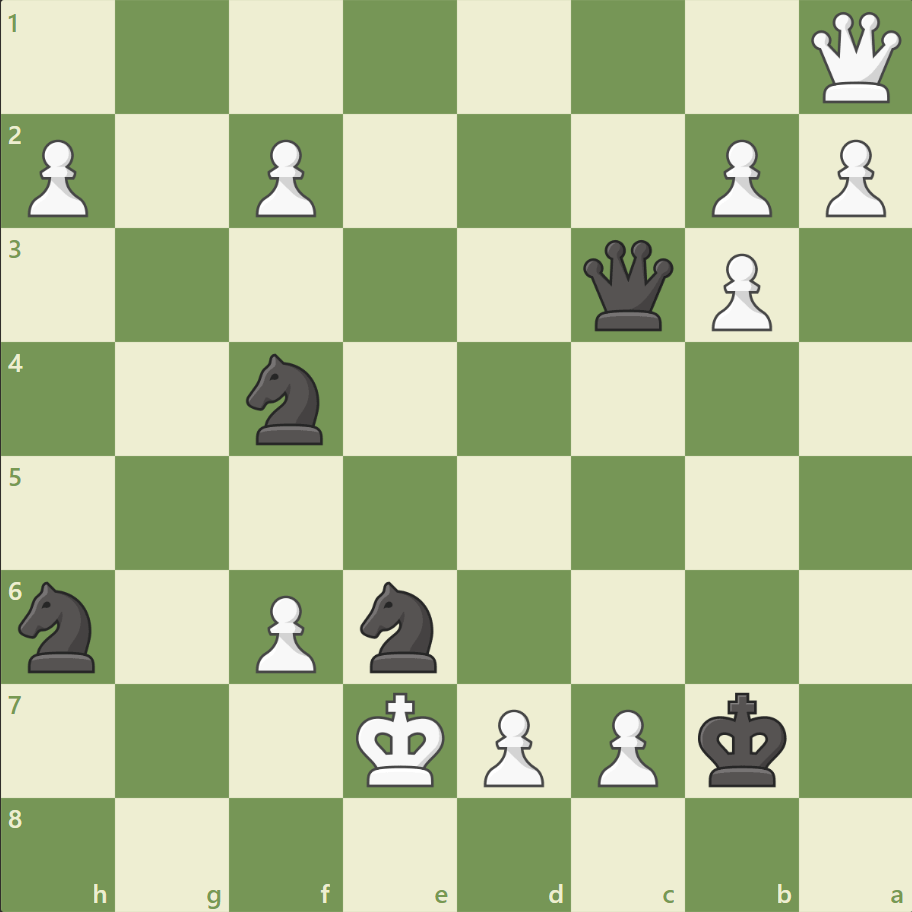K: (351, 685, 451, 793)
P: (474, 700, 549, 791), (247, 586, 322, 677), (701, 246, 776, 337), (701, 132, 776, 223), (247, 132, 322, 223), (20, 132, 95, 223), (588, 700, 662, 791), (815, 132, 889, 223)
Q: (805, 9, 904, 108)
k: (692, 685, 792, 793)
n: (351, 575, 449, 677), (11, 575, 108, 677), (238, 348, 335, 450)
q: (578, 236, 677, 335)
